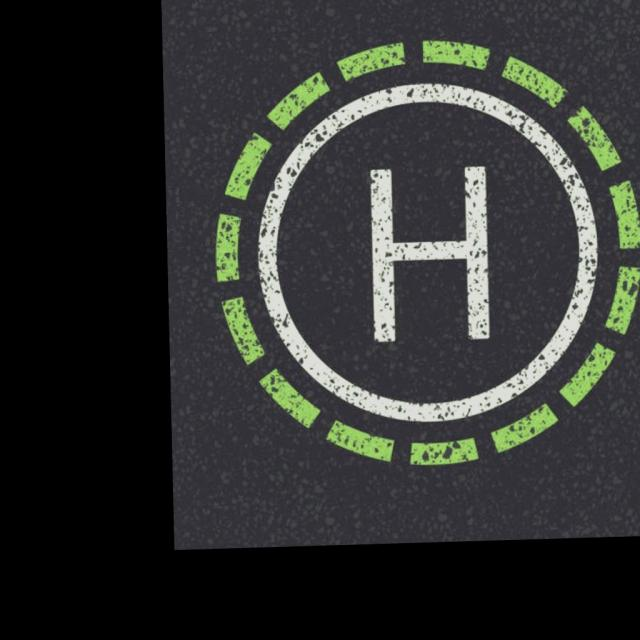helipad: (253, 74, 603, 429)
